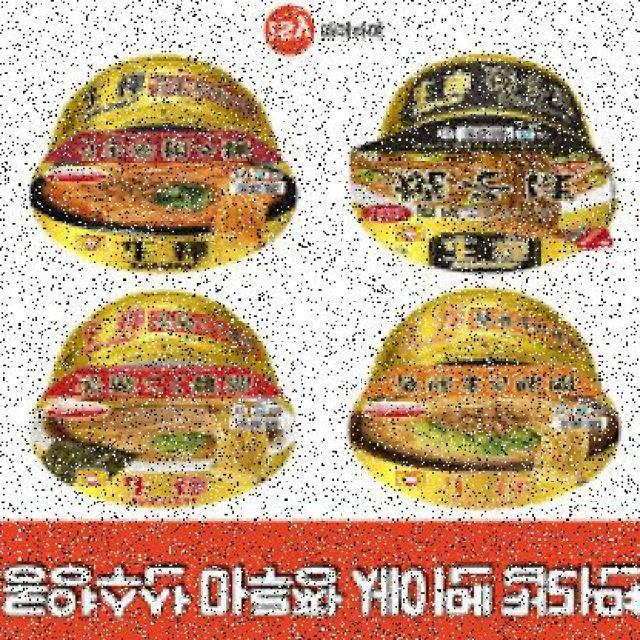Miscellaneous: (352, 50, 628, 272), (35, 284, 308, 507), (28, 64, 310, 278), (342, 290, 615, 510)
